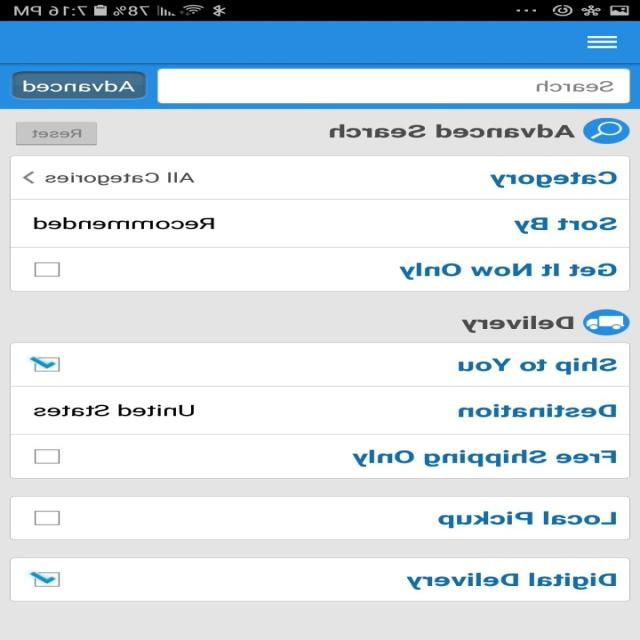EditText: (158, 68, 631, 104)
Icon: (582, 118, 630, 144), (588, 36, 618, 49), (23, 171, 36, 183)
Image: (582, 308, 630, 336)
Text: (352, 449, 617, 467), (399, 262, 617, 280), (406, 572, 617, 590), (330, 124, 576, 138), (438, 511, 617, 528), (458, 357, 618, 375), (459, 403, 617, 418), (33, 217, 215, 230), (490, 170, 618, 188), (46, 172, 196, 186), (34, 403, 195, 416), (462, 314, 574, 332), (514, 217, 618, 234), (536, 80, 614, 92)
TextButton: (11, 71, 148, 99), (17, 121, 99, 145)
